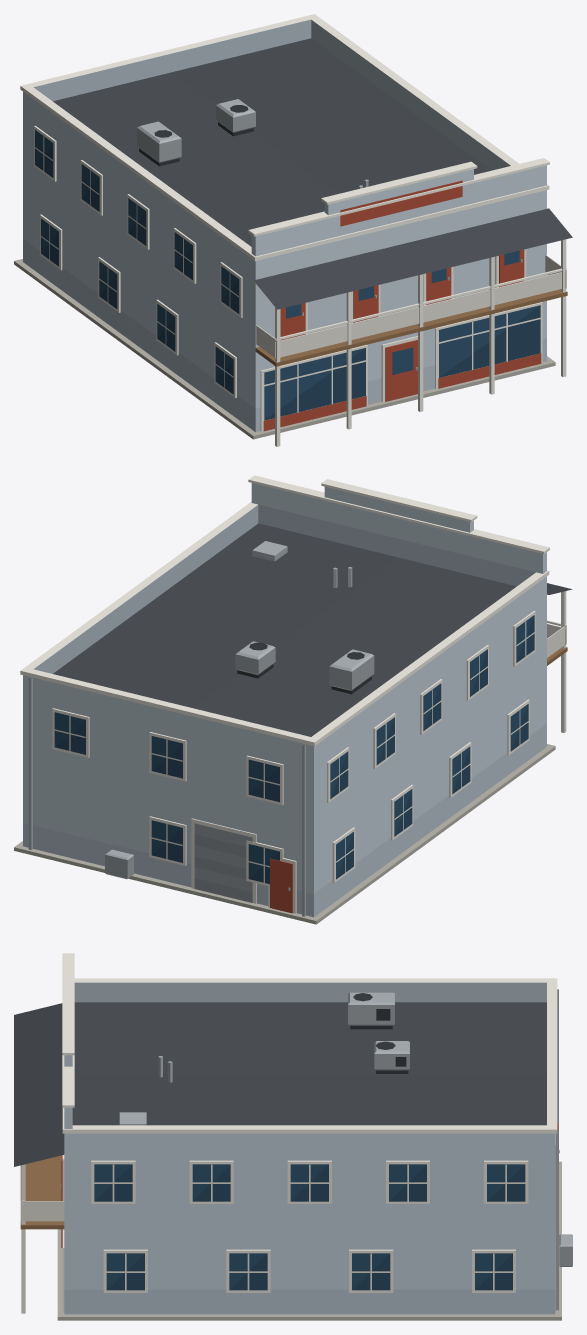
Rendered from shop_13x18_2f.glb.
3 views of the same model, one above another, from view 1: azimuth 30°, elevation 25°; view 2: azimuth 150°, elevation 25°; view 3: azimuth 270°, elevation 25° (orthographic). The views are drawn at different scales.
Visible parts, largest first — view 1: block; view 2: block; view 3: block.
Part boxes in pixels (box(x1,y1,x2,y2)): block: box(14, 14, 572, 446); block: box(14, 475, 572, 924); block: box(14, 953, 572, 1320).
Bounding box in the file's own units: 13.5 × 9.25 × 20.5.
